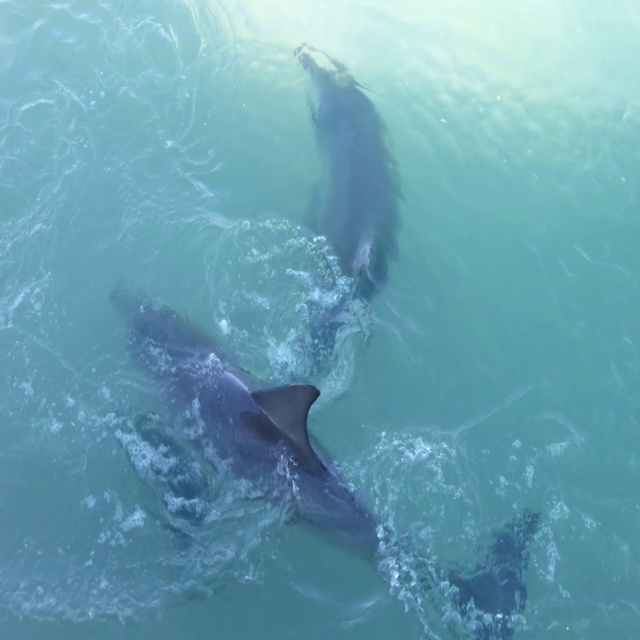Shark: (111, 289, 538, 639)
